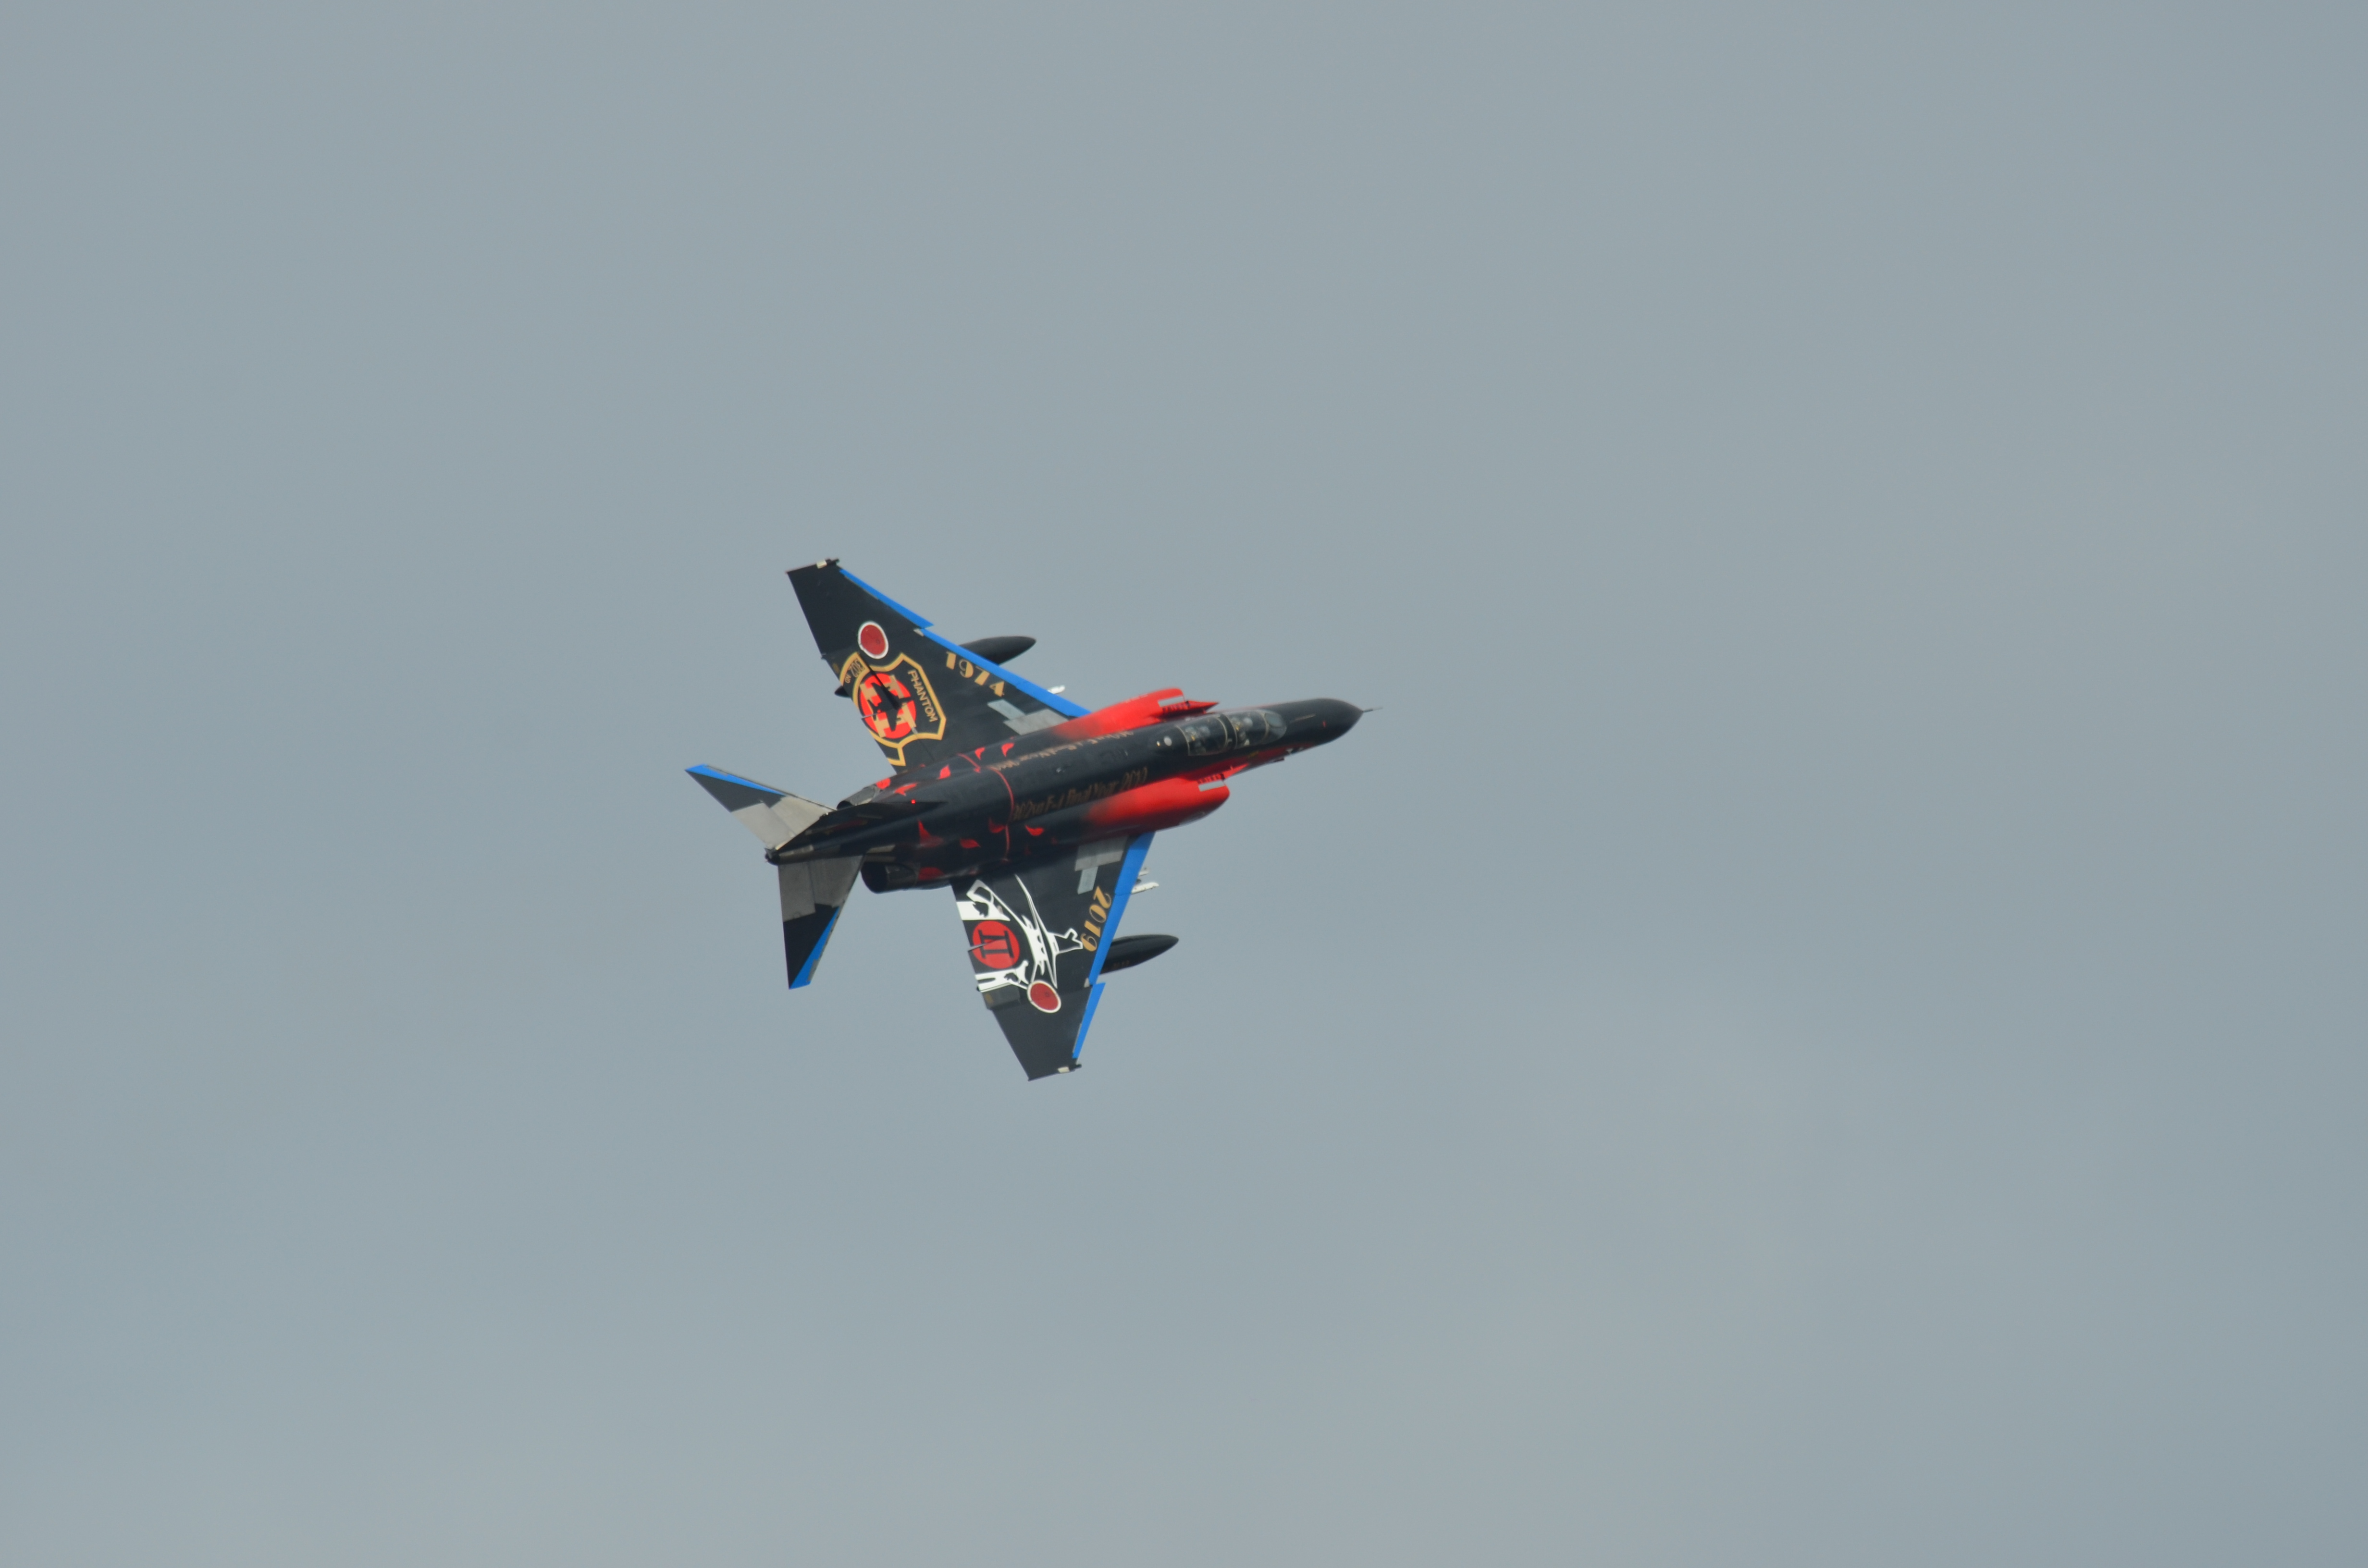F4: (683, 556, 1383, 1081)
